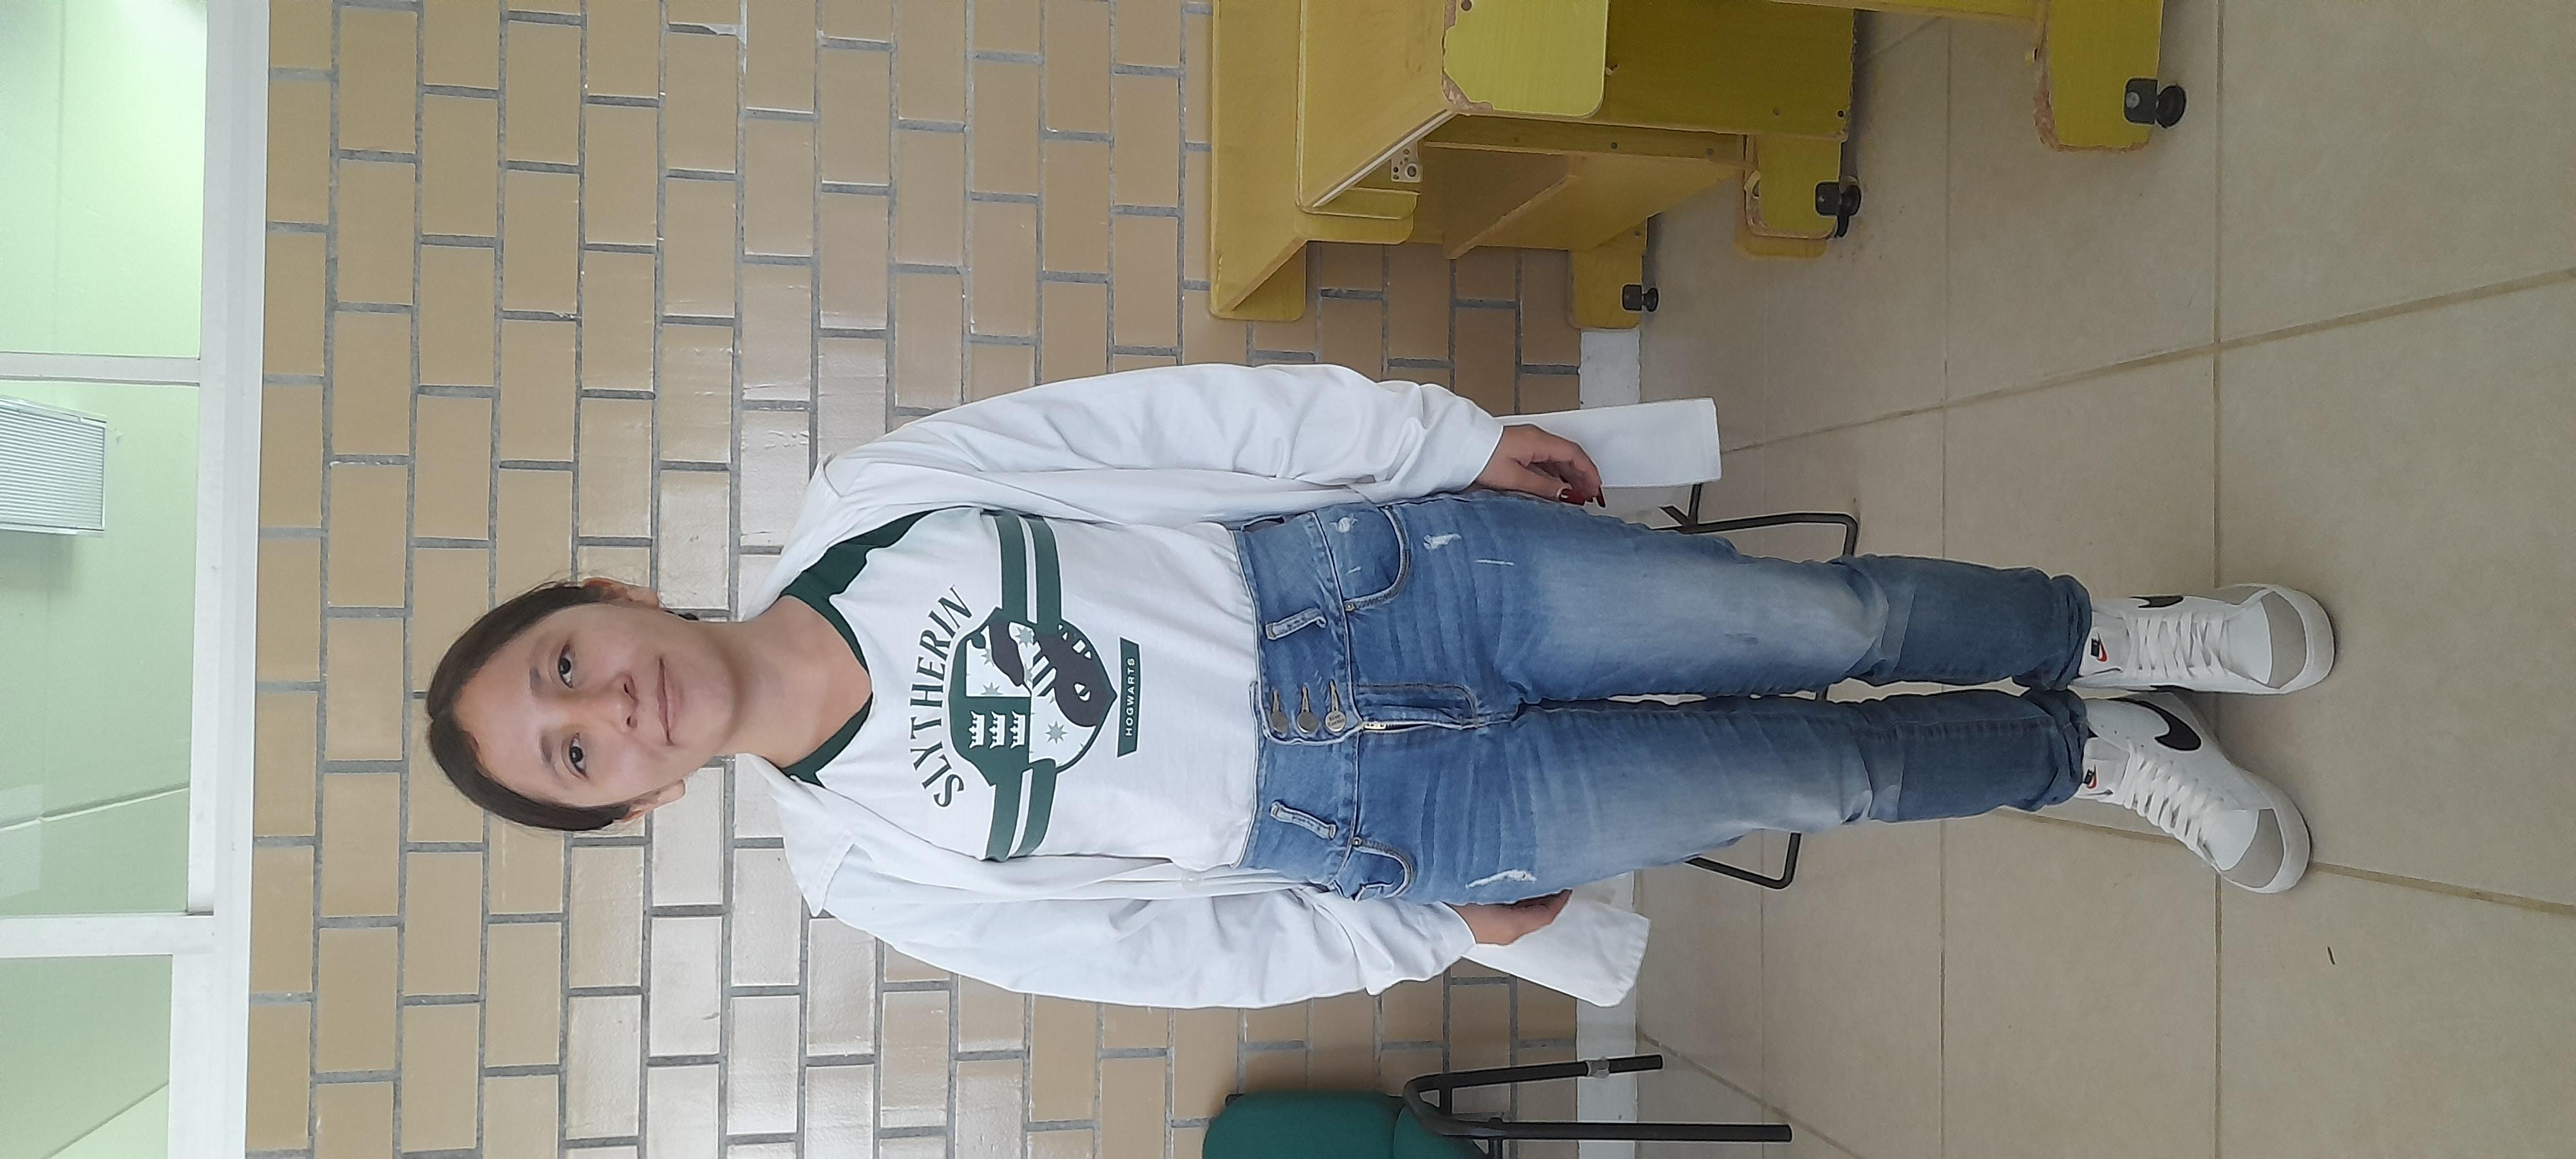Bata-Incorrecta: (273, 159, 1847, 1083)
